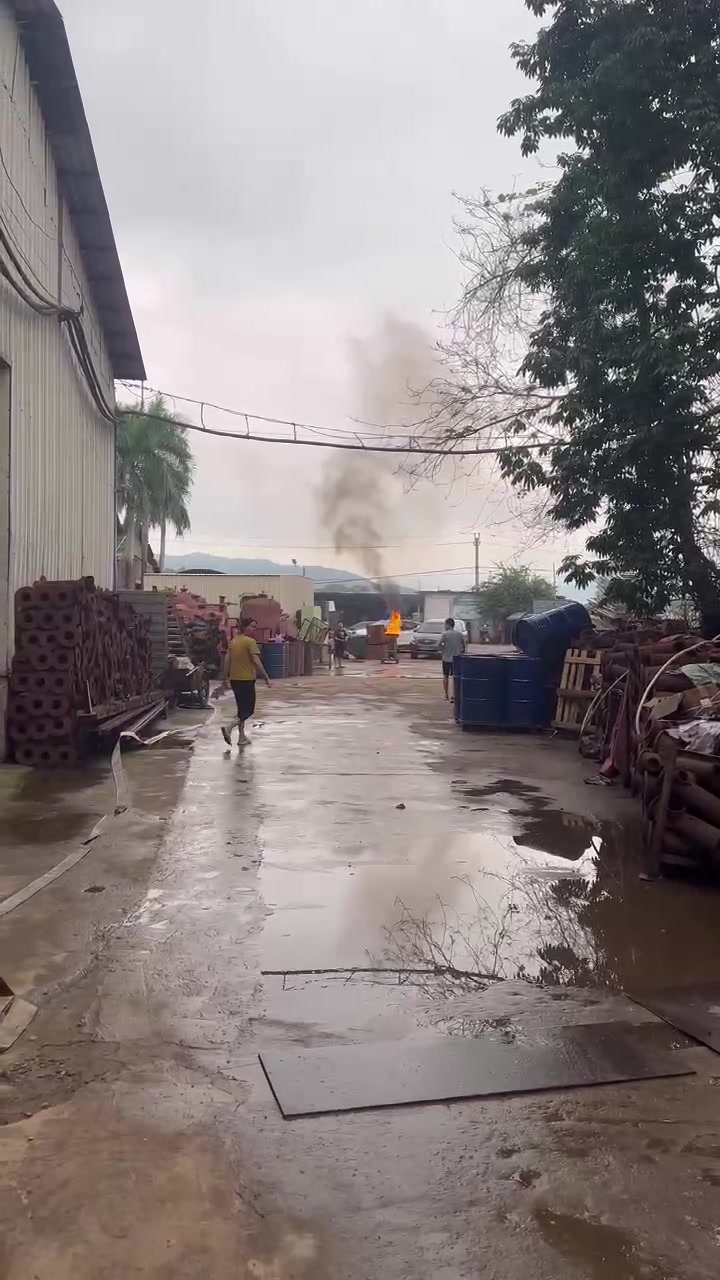fire: (384, 611, 400, 633)
